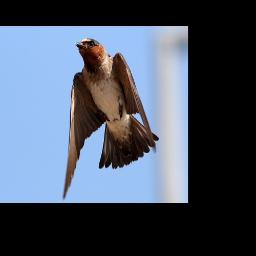Swallow: (62, 38, 158, 201)
